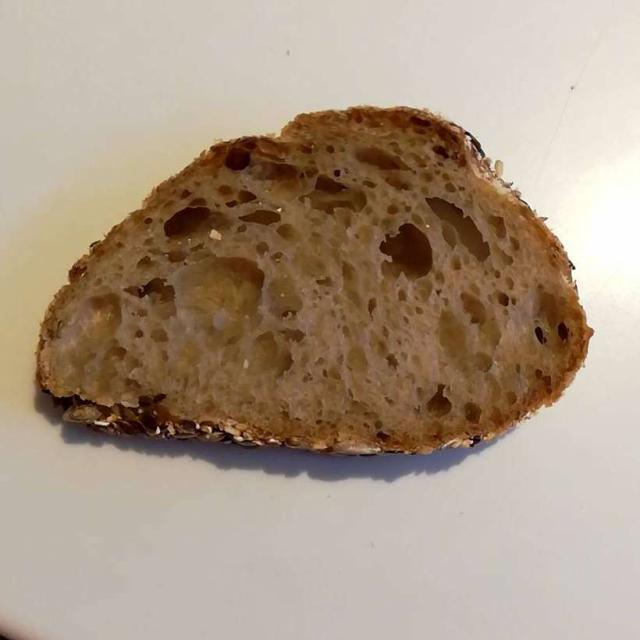bread-whole-wheat: (36, 110, 576, 453)
